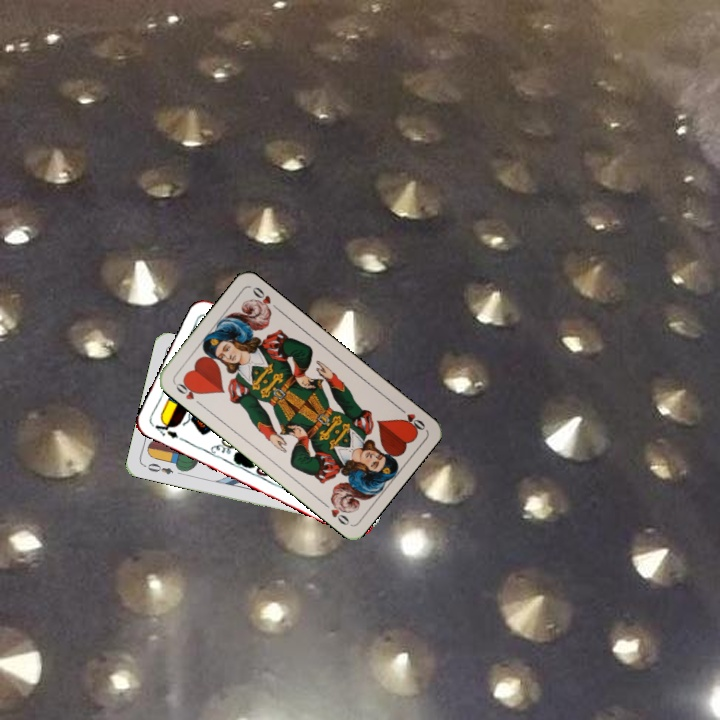EA: (151, 415, 187, 443)
EO: (140, 459, 176, 477)
HO: (170, 376, 205, 408), (393, 402, 428, 434)
